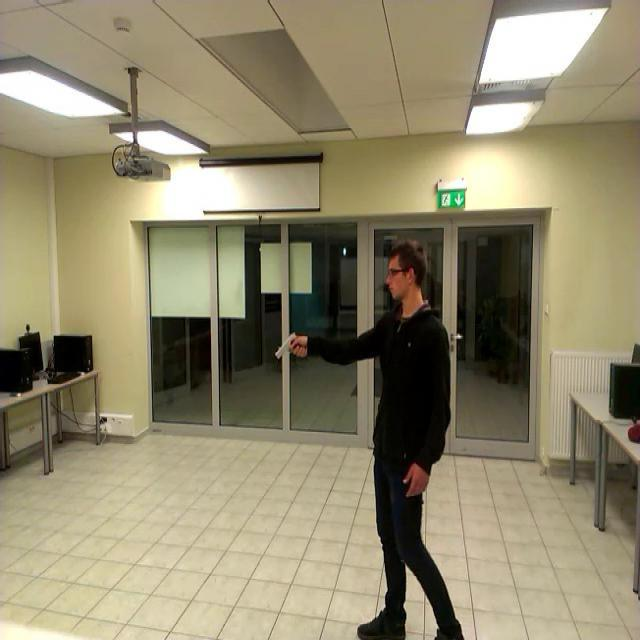weapon: (274, 335, 308, 360)
